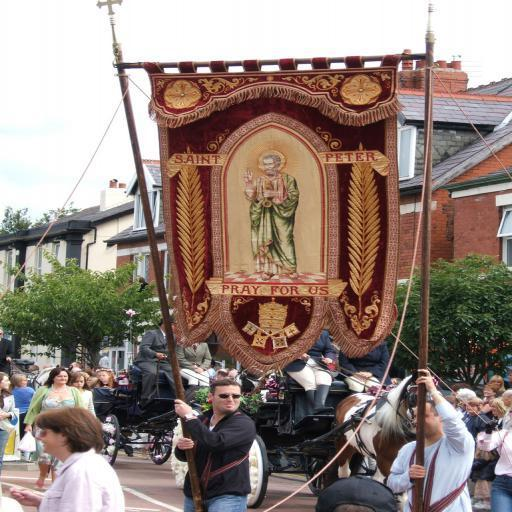horse: (335, 366, 446, 512), (176, 359, 266, 418)
